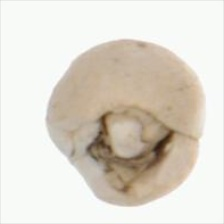L3: (84, 105, 174, 186)
L4: (45, 40, 205, 207)
